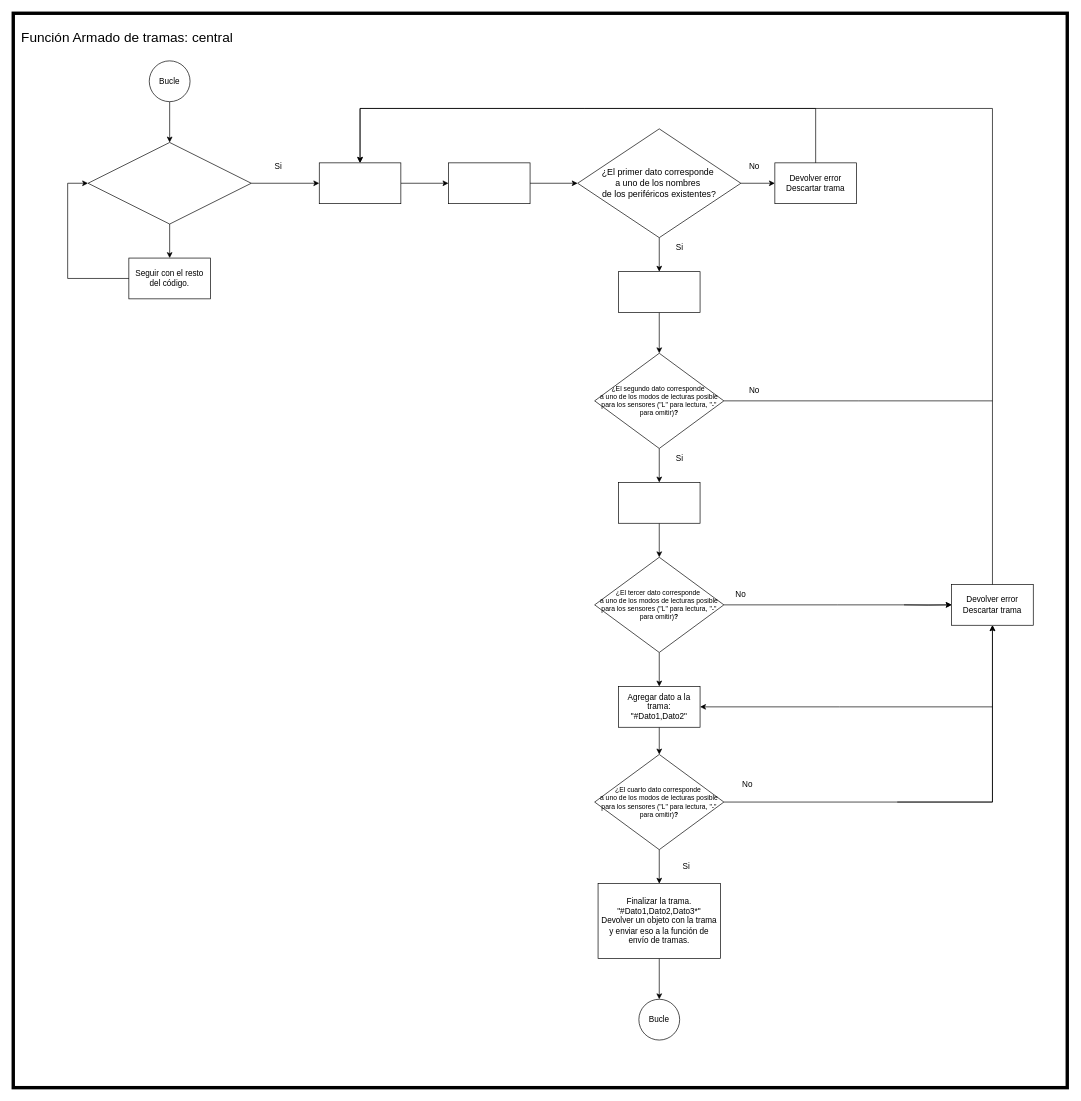
Image size: 1081x1101. Some labels were removed from this diagram. The shapes that lost their labels are listed below. From the top down, each one's box as (x1, y1, x2, y2) in pixels, then its label:
(87, 142, 251, 224): ¿Se detectó un dato en la lista de espera?
(319, 162, 401, 204): Recibir objeto con los datos que se quieren consultar.
(448, 162, 530, 204): Analiza el primer dato del objeto
(618, 271, 700, 312): Analizar el segundo dato del objeto
(618, 482, 700, 523): Iniciar trama y agregar dato a la trama: "#Dato1"
